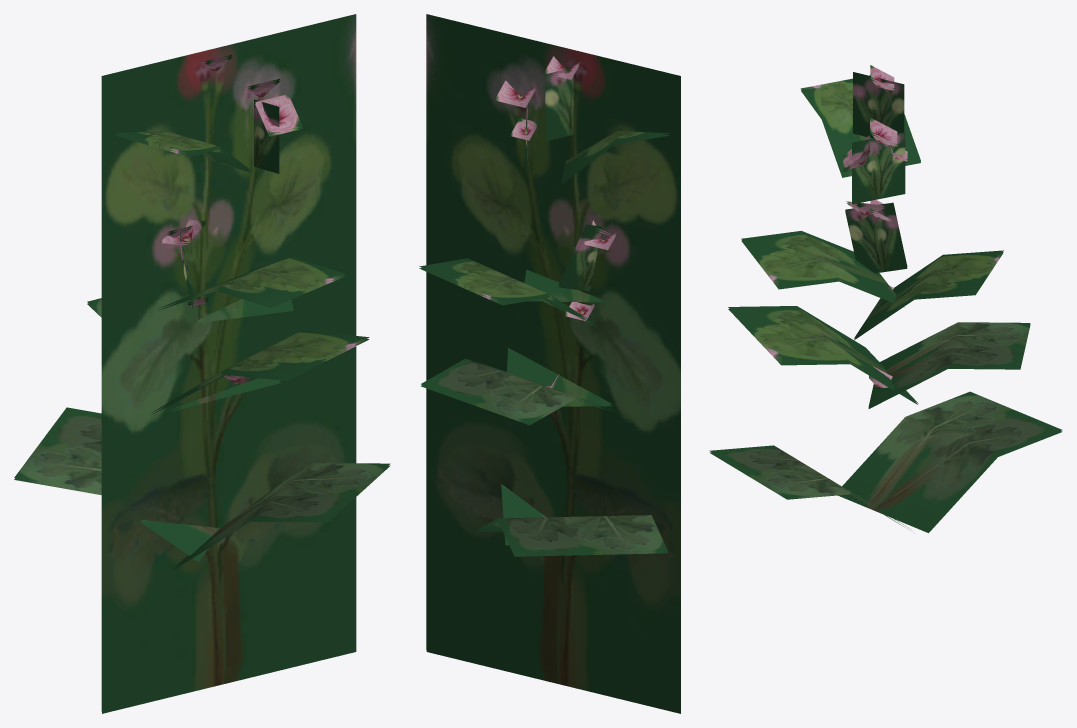
The model's file is Dingqingchuan_wujian_12.FBX.
3 renders of one model, left to right at view 1: azimuth 30°, elevation 25°; view 2: azimuth 150°, elevation 25°; view 3: azimuth 270°, elevation 25°, orthographic. The views are drawn at different scales.
Visible parts, largest first — view 1: Plane04; view 2: Plane04; view 3: Plane04.
Part boxes in pixels (<box>): Plane04: <box>14,14,390,713</box>; Plane04: <box>419,14,680,713</box>; Plane04: <box>709,65,1062,532</box>.
Bounding box in the file's own units: 3.88 × 8.1 × 4.43.
